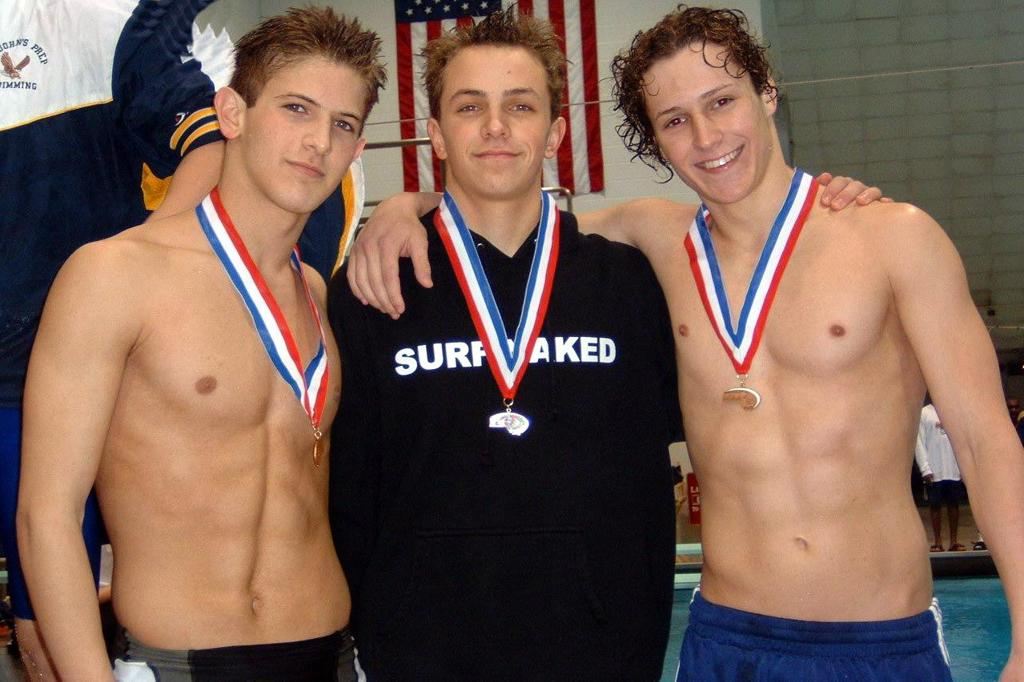face: (652, 58, 760, 196), (258, 60, 364, 198), (446, 60, 552, 194)
